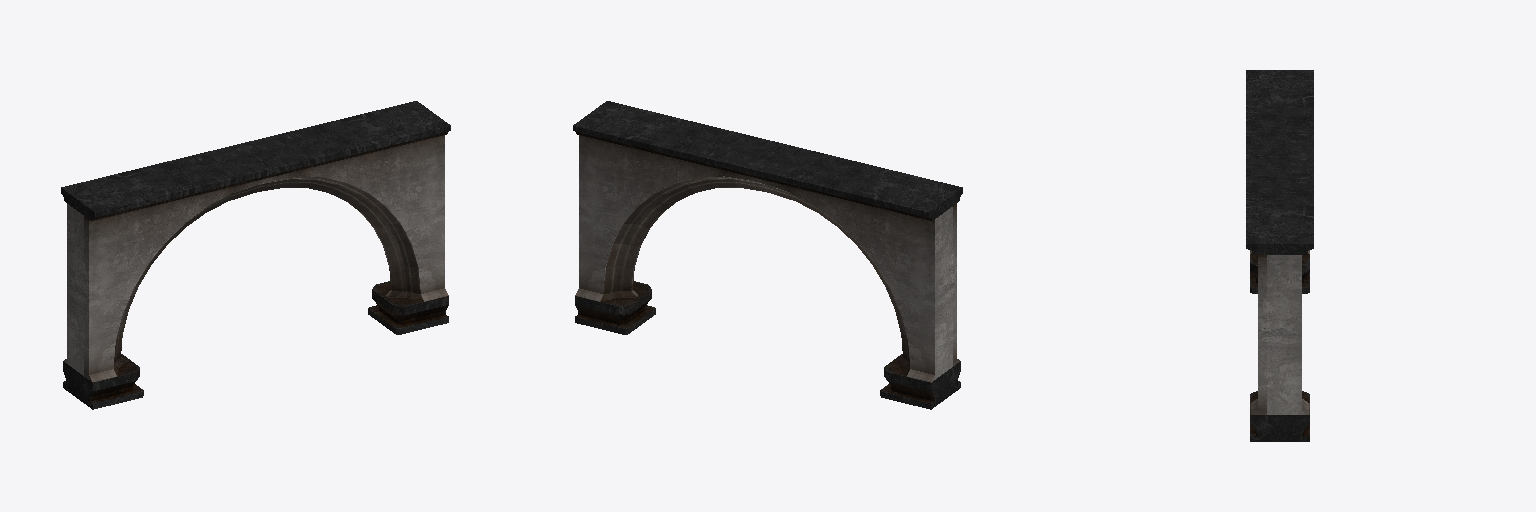
3 renders of one model, left to right at view 1: azimuth 30°, elevation 25°; view 2: azimuth 150°, elevation 25°; view 3: azimuth 270°, elevation 25°, orthographic.
Visible parts, largest first — view 1: FishArchBMerged; view 2: FishArchBMerged; view 3: FishArchBMerged.
Boxes of the visible parts, box(x1,y1,x2,y2) form: FishArchBMerged: box(61, 101, 450, 409); FishArchBMerged: box(573, 101, 962, 409); FishArchBMerged: box(1246, 70, 1313, 441).
Size of the model in its own units: 480 by 256 by 80.
1 materials, 1 textured.